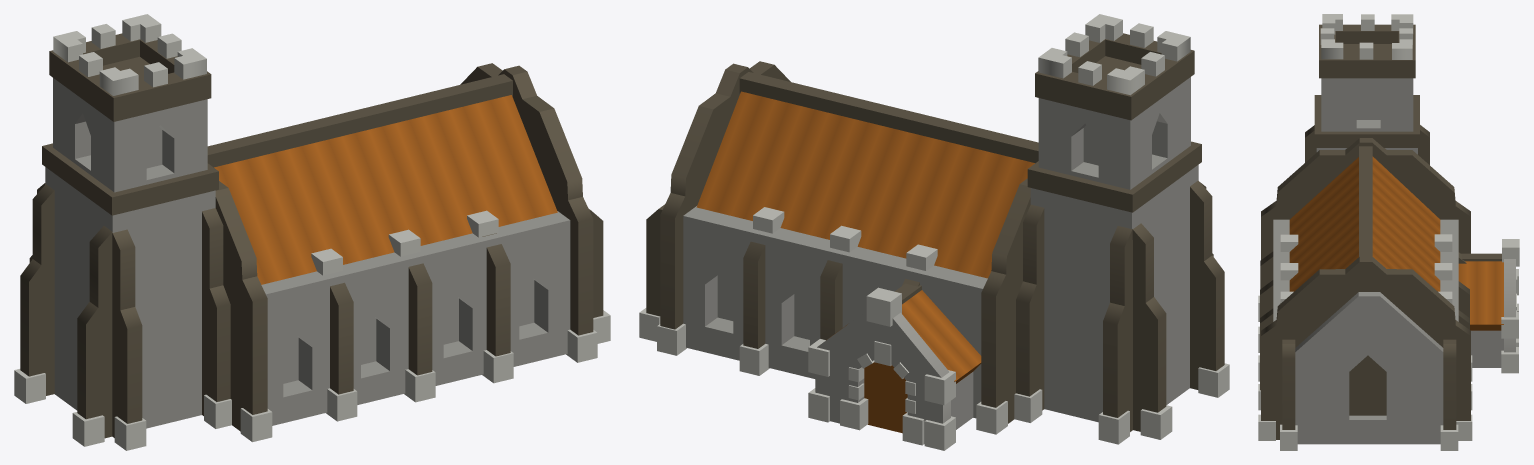
The model's file is church_.fbx.
3 renders of one model, left to right at view 1: azimuth 30°, elevation 25°; view 2: azimuth 150°, elevation 25°; view 3: azimuth 270°, elevation 25°, orthographic. The views are drawn at different scales.
Parts seen in each view (by area): view 1: polySurface191; view 2: polySurface191; view 3: polySurface191.
Part boxes in pixels (bbox=[...]): polySurface191: bbox=[14, 14, 610, 450]; polySurface191: bbox=[639, 14, 1229, 450]; polySurface191: bbox=[1258, 14, 1519, 450].
Bounding box in the file's own units: 303 × 204 × 182.
Materials: 1 (1 with a texture image).
